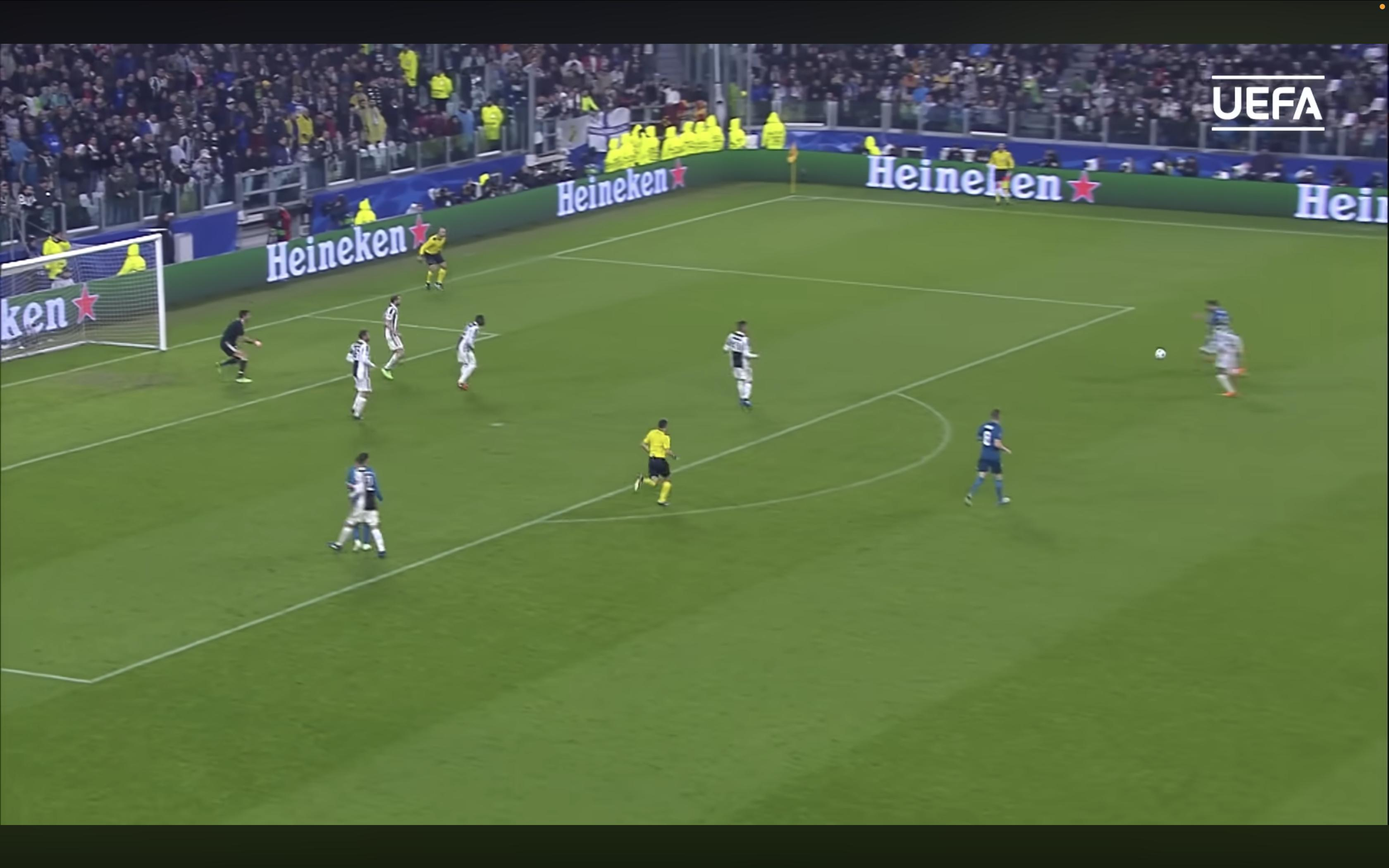ball: (1155, 348, 1167, 360)
goalkeeper: (218, 310, 261, 383)
player: (329, 453, 385, 557), (965, 410, 1010, 505), (723, 321, 757, 408), (346, 329, 374, 421), (457, 314, 485, 390), (1194, 300, 1231, 356), (1215, 328, 1243, 397), (382, 295, 404, 379)
referee: (633, 419, 676, 506), (418, 228, 446, 290), (988, 143, 1015, 204)
